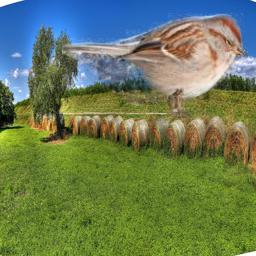Sparrow: (62, 13, 248, 118)
